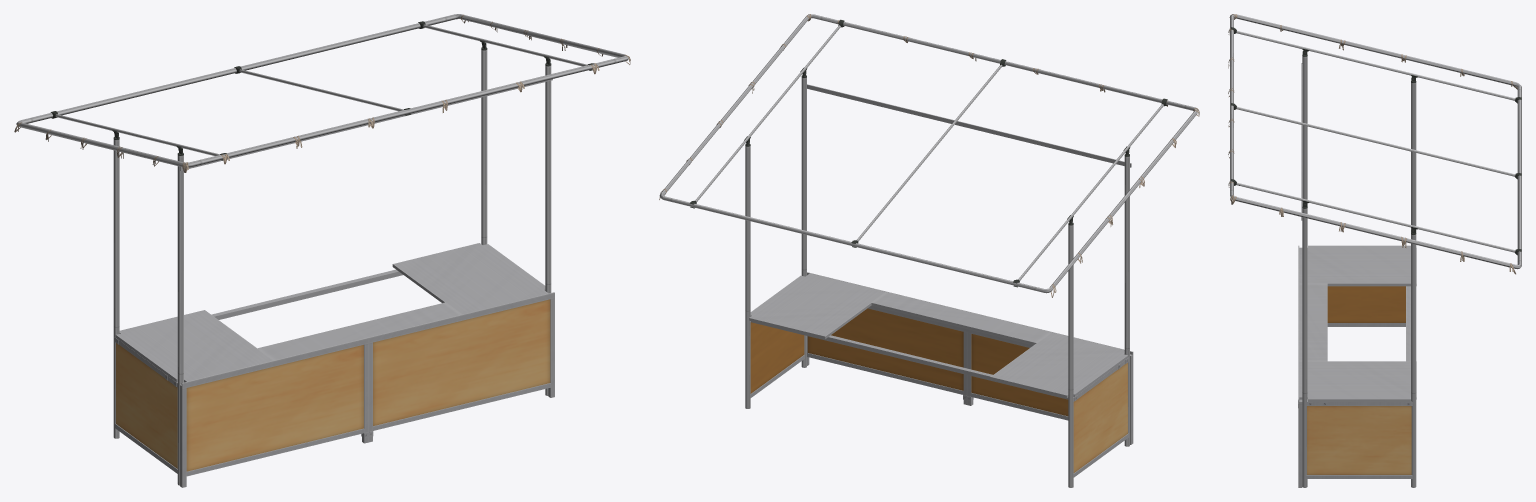
Rendered from jsf_4P_s03_c05_t03.fbx.
3 renders of one model, left to right at view 1: azimuth 30°, elevation 25°; view 2: azimuth 150°, elevation 25°; view 3: azimuth 270°, elevation 25°, orthographic. The views are drawn at different scales.
Visible parts, largest first — view 1: Base_s03_c05, Table_4P_s03_t03, Pillar4_s03, Rope_4P_s03; view 2: Base_s03_c05, Pillar4_s03, Table_4P_s03_t03; view 3: Pillar4_s03, Base_s03_c05, Table_4P_s03_t03, Rope_4P_s03.
Boxes of the visible parts, x1=… form: Base_s03_c05: x1=114, y1=292, x2=554, y2=487; Table_4P_s03_t03: x1=115, y1=243, x2=548, y2=386; Pillar4_s03: x1=16, y1=14, x2=628, y2=485; Rope_4P_s03: x1=14, y1=14, x2=630, y2=172; Base_s03_c05: x1=750, y1=272, x2=1133, y2=477; Pillar4_s03: x1=659, y1=14, x2=1198, y2=487; Table_4P_s03_t03: x1=749, y1=273, x2=1128, y2=400; Pillar4_s03: x1=1230, y1=14, x2=1521, y2=487; Base_s03_c05: x1=1298, y1=245, x2=1412, y2=487; Table_4P_s03_t03: x1=1299, y1=245, x2=1416, y2=405; Rope_4P_s03: x1=1228, y1=14, x2=1517, y2=274.
Bounding box in the file's own units: 316 × 243 × 211.
